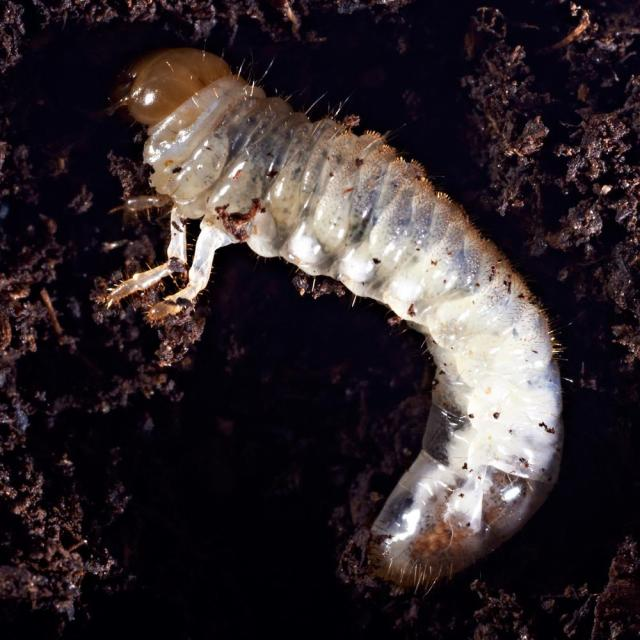Grub-Adult-: (127, 48, 561, 590)
